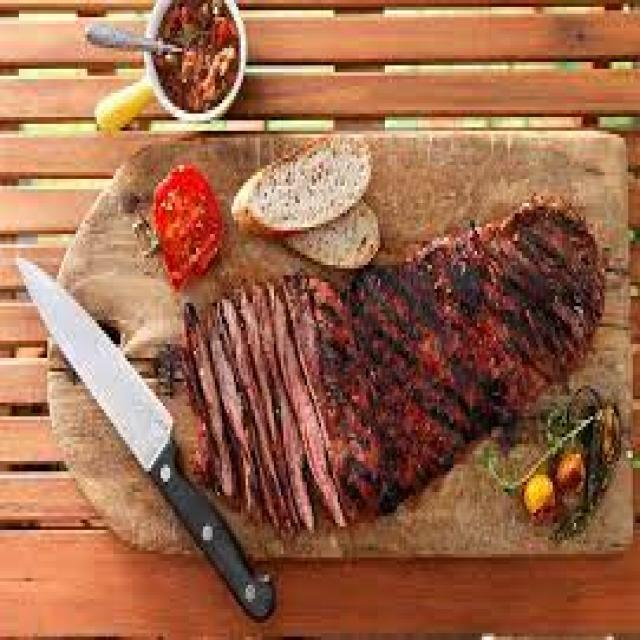Carne: (177, 189, 605, 537)
